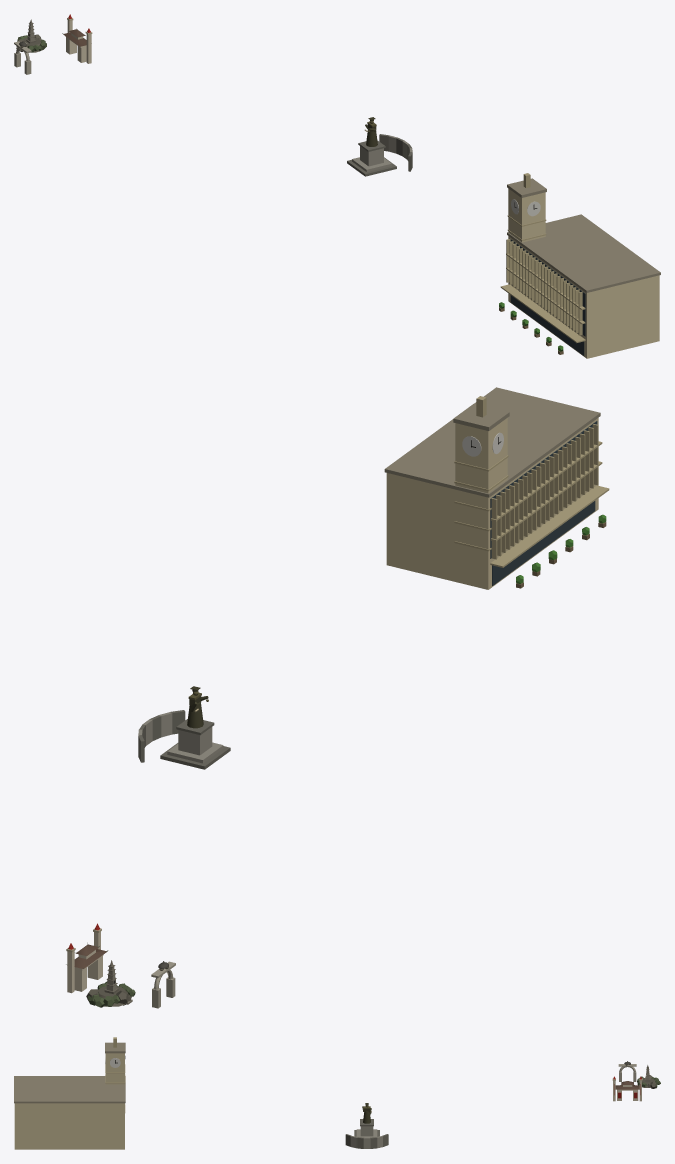
The model's file is lakeside_landmarks.glb.
The picture shows the model from 3 angles, top to bottom: view 1: azimuth 30°, elevation 25°; view 2: azimuth 150°, elevation 25°; view 3: azimuth 270°, elevation 25°; orthographic projection. The views are drawn at different scales.
Parts seen in each view (by area): view 1: LakesideLandmarks_mat0; view 2: LakesideLandmarks_mat0; view 3: LakesideLandmarks_mat0.
Part boxes in pixels (left/top/right/bottom): LakesideLandmarks_mat0: left=14, top=14, right=660, bottom=358; LakesideLandmarks_mat0: left=66, top=387, right=609, bottom=1008; LakesideLandmarks_mat0: left=14, top=1037, right=660, bottom=1149.
Bounding box in the file's own units: 44.85 × 27.2 × 176.
